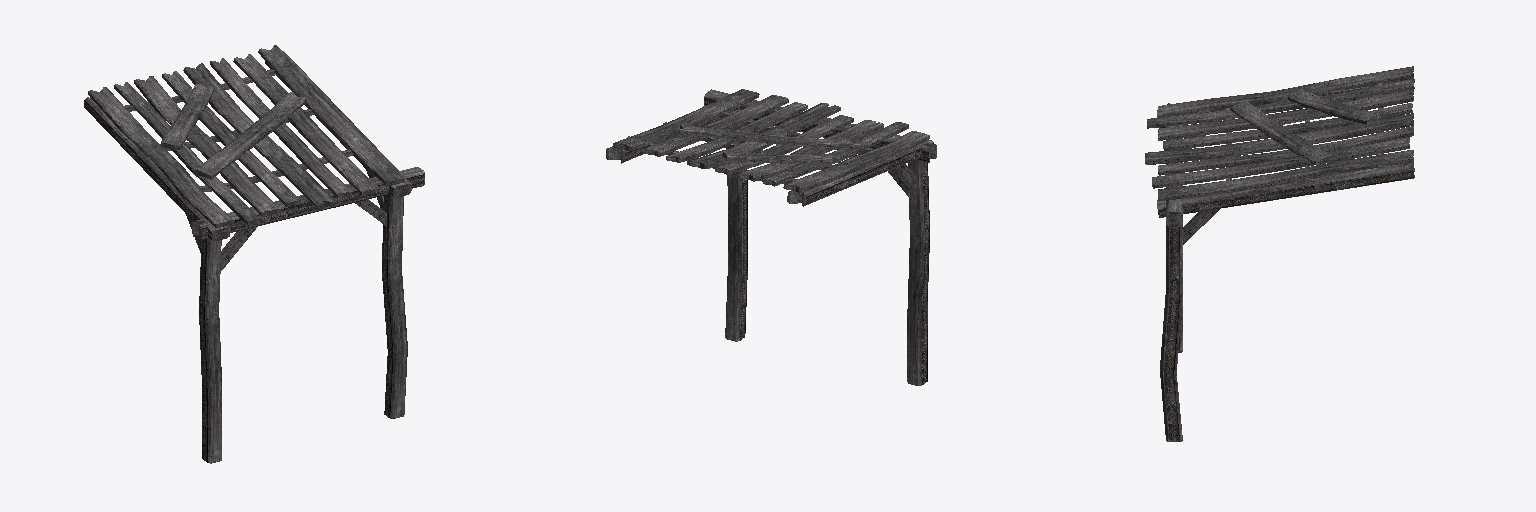
3 renders of one model, left to right at view 1: azimuth 30°, elevation 25°; view 2: azimuth 150°, elevation 25°; view 3: azimuth 270°, elevation 25°, orthographic.
Parts seen in each view (by area): view 1: Default_Layer; view 2: Default_Layer; view 3: Default_Layer.
Boxes of the visible parts, box(x1,y1,x2,y2) form: Default_Layer: box(84, 45, 424, 463); Default_Layer: box(606, 89, 936, 385); Default_Layer: box(1145, 66, 1414, 441).
Size of the model in its own units: 6.29 by 7.55 by 6.55.
1 materials, 1 textured.